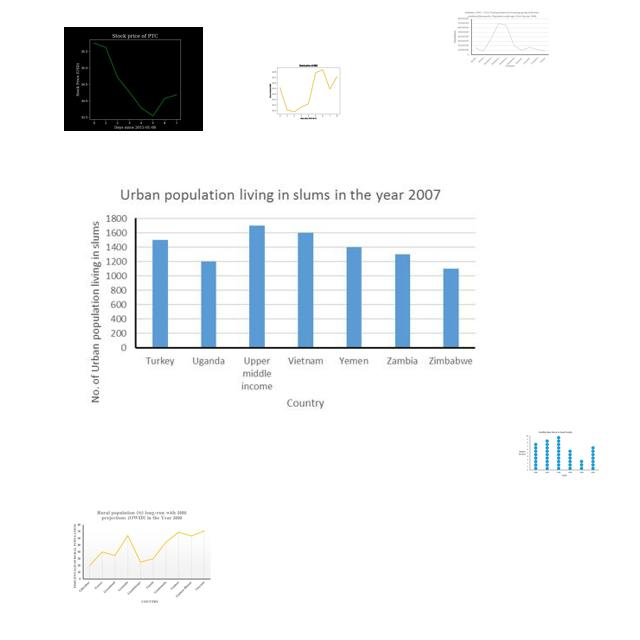Graph: (85, 184, 480, 411), (64, 27, 203, 131), (71, 510, 213, 605), (453, 10, 550, 68), (267, 60, 348, 121), (516, 429, 601, 479)
